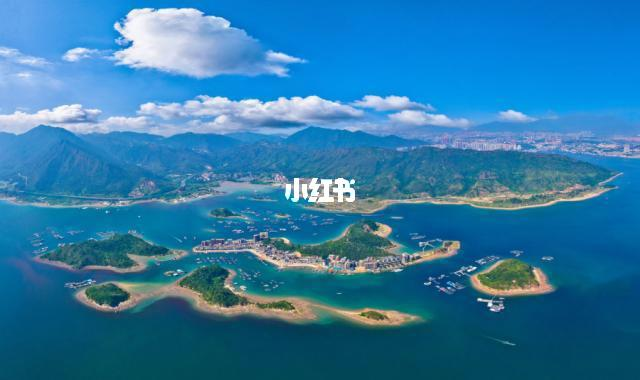mountain: (11, 123, 615, 196)
sky_cloud: (0, 7, 640, 122)
